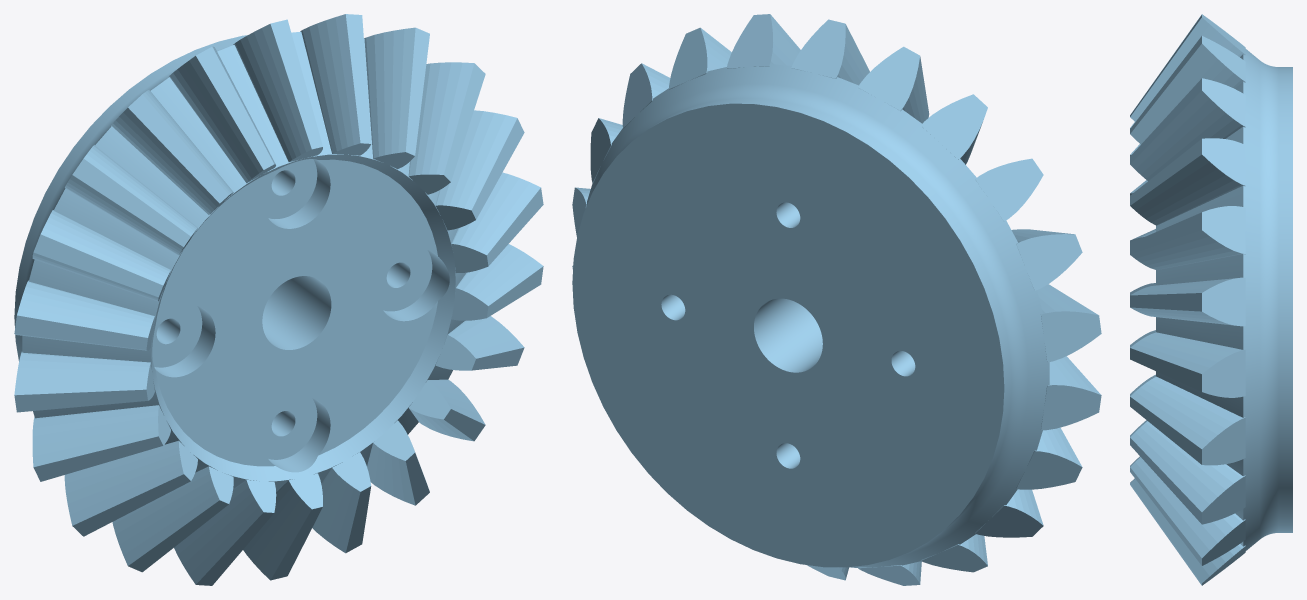
3 views of the same model, side by side, from view 1: azimuth 30°, elevation 25°; view 2: azimuth 150°, elevation 25°; view 3: azimuth 270°, elevation 25° (orthographic). The views are drawn at different scales.
Visible parts, largest first — view 1: mesh1555, mesh1569, mesh1556, mesh1567, mesh1588, mesh1587, mesh1589, mesh1586, mesh1650, mesh1633, mesh1667, mesh1616 (+105 smaller); view 2: mesh1566, mesh1949, mesh1568, mesh1567, mesh1556, mesh1657, mesh1640, mesh1674, mesh1623, mesh1691, mesh1606, mesh1708 (+8 smaller); view 3: mesh1568, mesh1949, mesh1567, mesh1572, mesh1573, mesh1912, mesh1929, mesh1895, mesh1946, mesh1878, mesh1615, mesh1905 (+59 smaller).
Boxes of the visible parts, x1=… form: mesh1555: x1=155, y1=159, x2=437, y2=466; mesh1569: x1=151, y1=154, x2=455, y2=481; mesh1556: x1=262, y1=276, x2=331, y2=349; mesh1567: x1=14, y1=35, x2=247, y2=361; mesh1588: x1=95, y1=126, x2=217, y2=234; mesh1587: x1=53, y1=188, x2=184, y2=282; mesh1589: x1=151, y1=77, x2=257, y2=200; mesh1586: x1=29, y1=259, x2=164, y2=327; mesh1650: x1=72, y1=158, x2=190, y2=246; mesh1633: x1=128, y1=94, x2=228, y2=203; mesh1667: x1=33, y1=234, x2=162, y2=297; mesh1616: x1=196, y1=47, x2=273, y2=169; mesh1566: x1=572, y1=103, x2=1004, y2=567; mesh1949: x1=587, y1=64, x2=1049, y2=567; mesh1568: x1=612, y1=84, x2=1028, y2=555; mesh1567: x1=649, y1=98, x2=1011, y2=528; mesh1556: x1=754, y1=298, x2=822, y2=372; mesh1657: x1=975, y1=158, x2=1043, y2=221; mesh1640: x1=921, y1=94, x2=987, y2=159; mesh1674: x1=1016, y1=234, x2=1082, y2=290; mesh1623: x1=858, y1=46, x2=919, y2=110; mesh1691: x1=1041, y1=311, x2=1101, y2=362; mesh1606: x1=791, y1=19, x2=845, y2=78; mesh1708: x1=1041, y1=385, x2=1101, y2=430; mesh1568: x1=1259, y1=60, x2=1278, y2=539; mesh1949: x1=1243, y1=49, x2=1259, y2=550; mesh1567: x1=1278, y1=67, x2=1292, y2=532; mesh1572: x1=1156, y1=254, x2=1243, y2=285; mesh1573: x1=1156, y1=317, x2=1243, y2=349; mesh1912: x1=1202, y1=277, x2=1245, y2=326; mesh1929: x1=1202, y1=206, x2=1245, y2=253; mesh1895: x1=1202, y1=350, x2=1245, y2=397; mesh1946: x1=1202, y1=138, x2=1245, y2=185; mesh1878: x1=1202, y1=417, x2=1245, y2=465; mesh1615: x1=1130, y1=17, x2=1209, y2=121; mesh1905: x1=1130, y1=293, x2=1201, y2=311.
Size of the model in its own units: 0.023 by 0.0231 by 0.00656.
